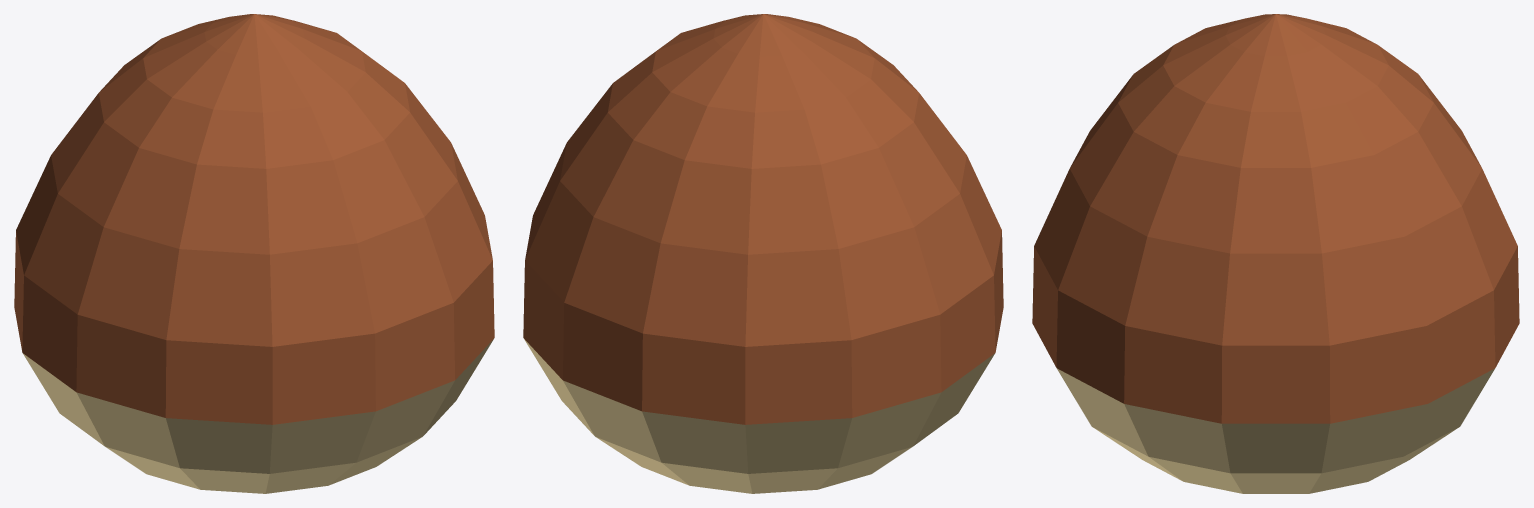
The model's file is Seed_Squares_V1.fbx.
3 renders of one model, left to right at view 1: azimuth 30°, elevation 25°; view 2: azimuth 150°, elevation 25°; view 3: azimuth 270°, elevation 25°, orthographic.
Visible parts, largest first — view 1: Seed_V1; view 2: Seed_V1; view 3: Seed_V1.
Boxes of the visible parts, box(x1,y1,x2,y2) form: Seed_V1: box(14, 14, 494, 493); Seed_V1: box(523, 14, 1003, 493); Seed_V1: box(1032, 14, 1519, 493).
Size of the model in its own units: 213 by 215 by 218.
